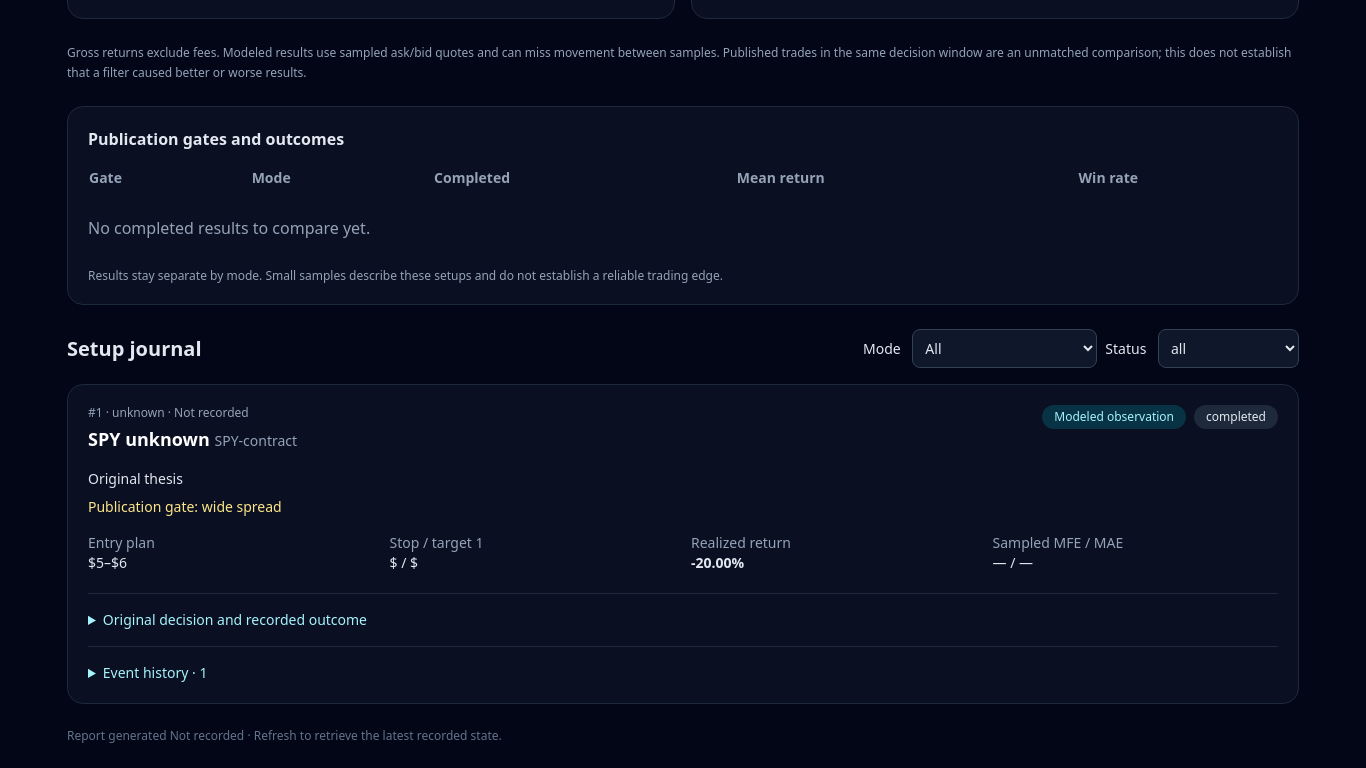
staff shadow research › labels modeled losses and shows immutable reasoning and events
The width and height of the screenshot is (1366, 768).
(page scrolled)
Expected: the text "Modeled observation" is shown, 1042,405 -> 1186,429
Expected: the text "-20.00%" is shown, 691,553 -> 744,572
Click the heading "Event history · 1" at (155, 672), box 103,663 -> 207,682
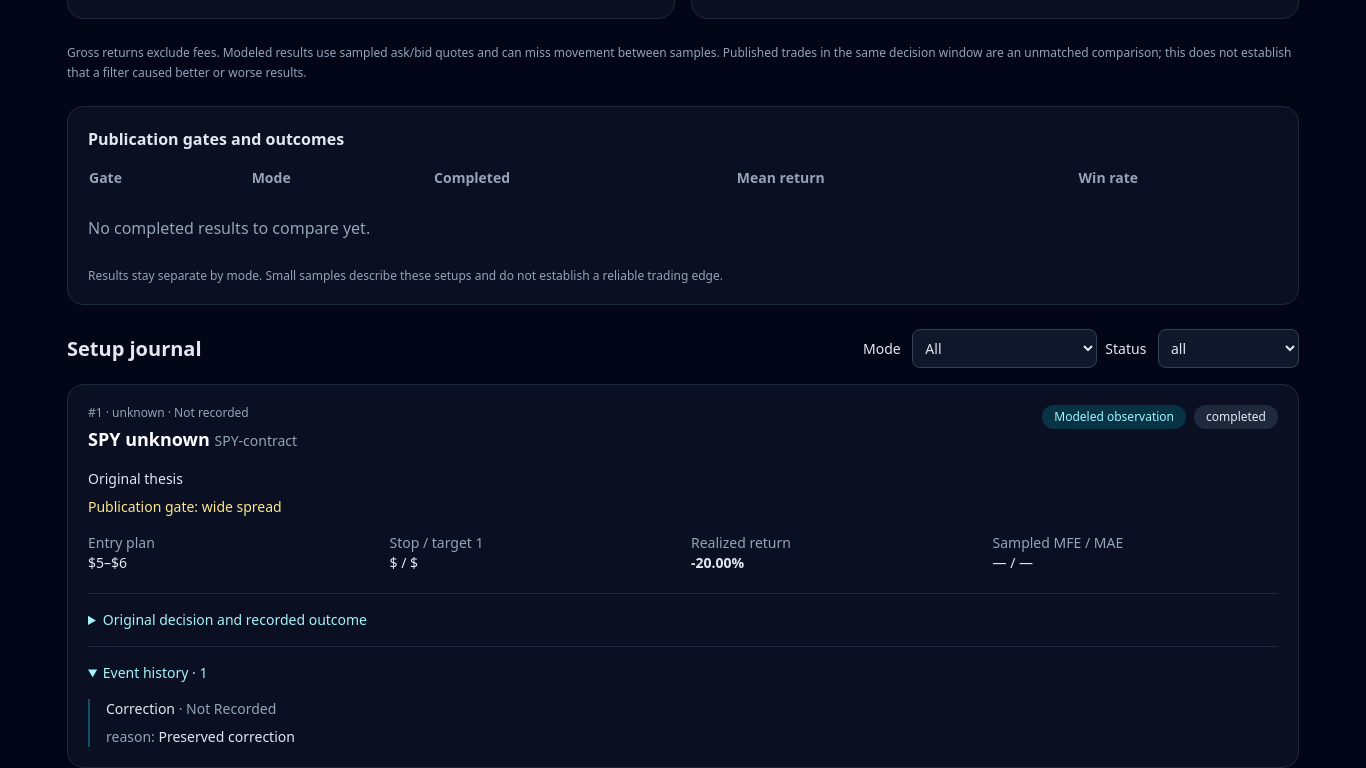
Expected: the text "Preserved correction" is shown, 158,727 -> 295,746
